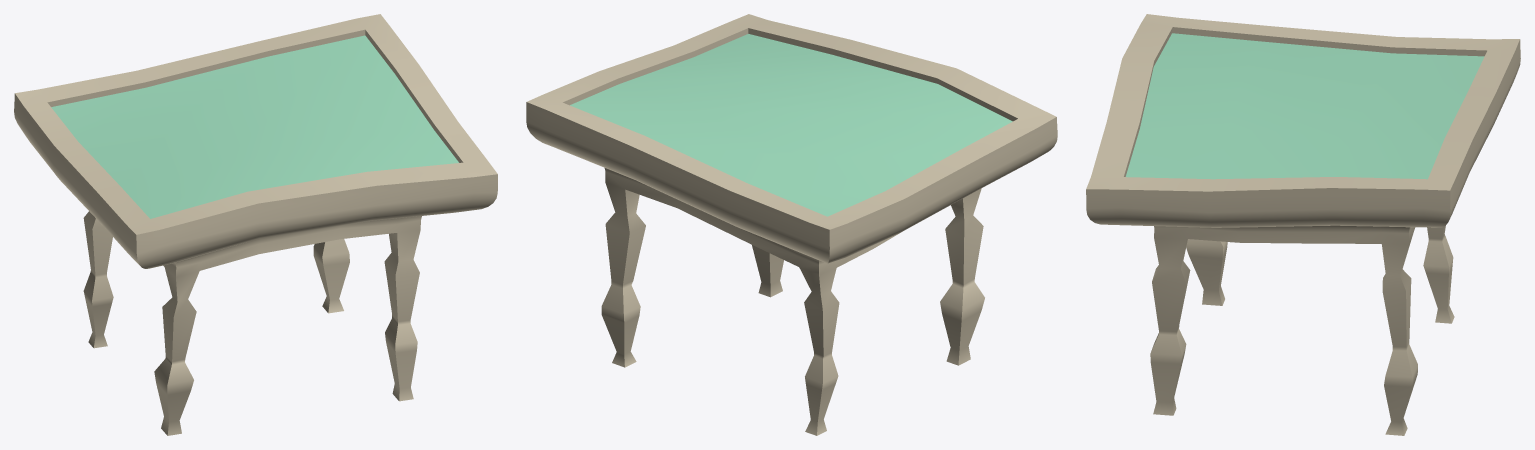
Rendered from side_table.fbx.
The picture shows the model from 3 angles, left to right: view 1: azimuth 30°, elevation 25°; view 2: azimuth 150°, elevation 25°; view 3: azimuth 270°, elevation 25°; orthographic projection. The views are drawn at different scales.
Visible parts, largest first — view 1: Wonky_table1; view 2: Wonky_table1; view 3: Wonky_table1.
Part boxes in pixels (<box>): Wonky_table1: <box>14,14,497,435</box>; Wonky_table1: <box>526,14,1057,435</box>; Wonky_table1: <box>1086,14,1520,435</box>.
Size of the model in its own units: 6.52 by 4.19 by 5.92.
